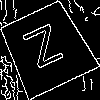Z: (21, 23, 71, 78)
